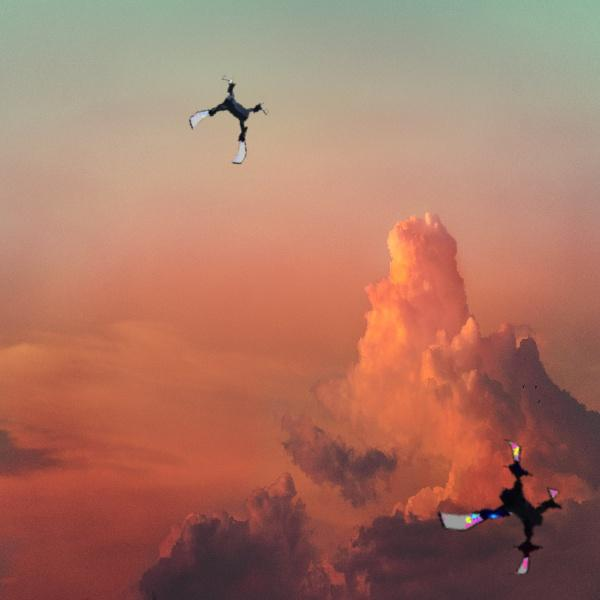drone: (427, 433, 570, 576), (194, 81, 272, 159)
